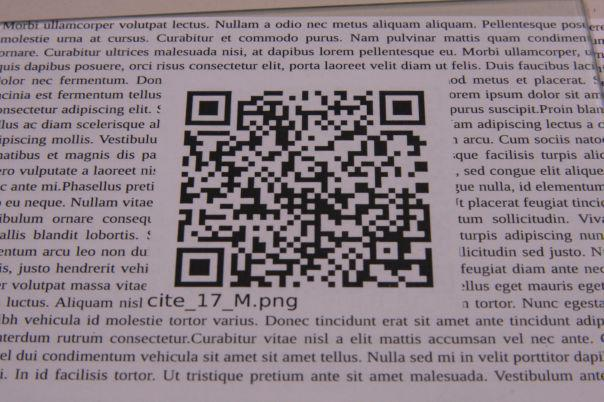qr_code: (174, 90, 434, 287)
